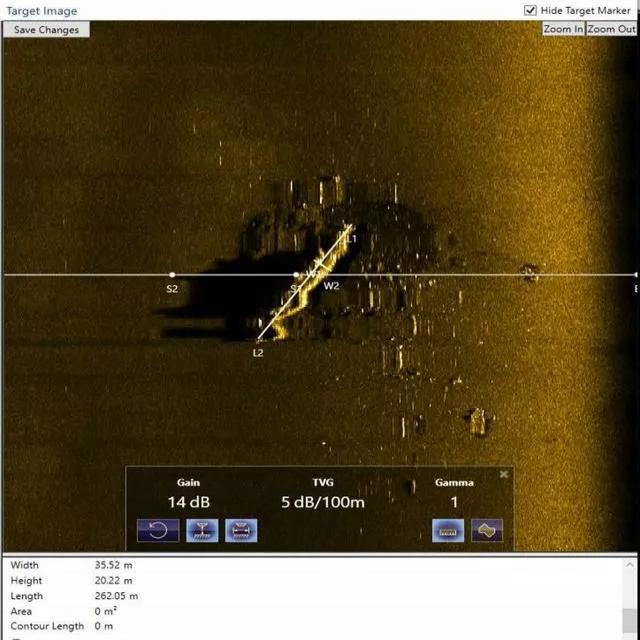ship: (240, 215, 361, 352)
